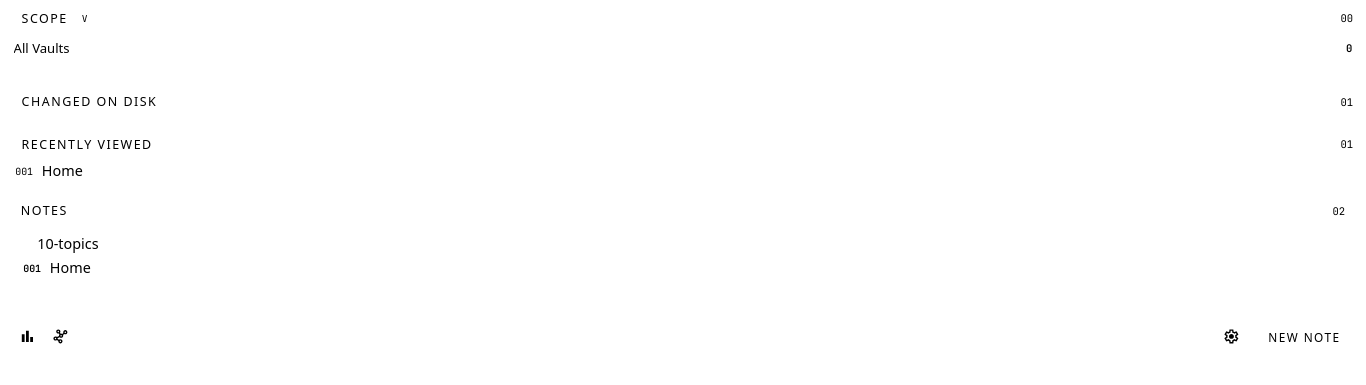
it: ExplorerPane › unfolds Changed on disk from its own head, folded by default (#530)
Expected: the link "Finance" is not shown
Click the button "Changed on disk 01" at {"x": 89, "y": 102}, box [8,93,1358,110]
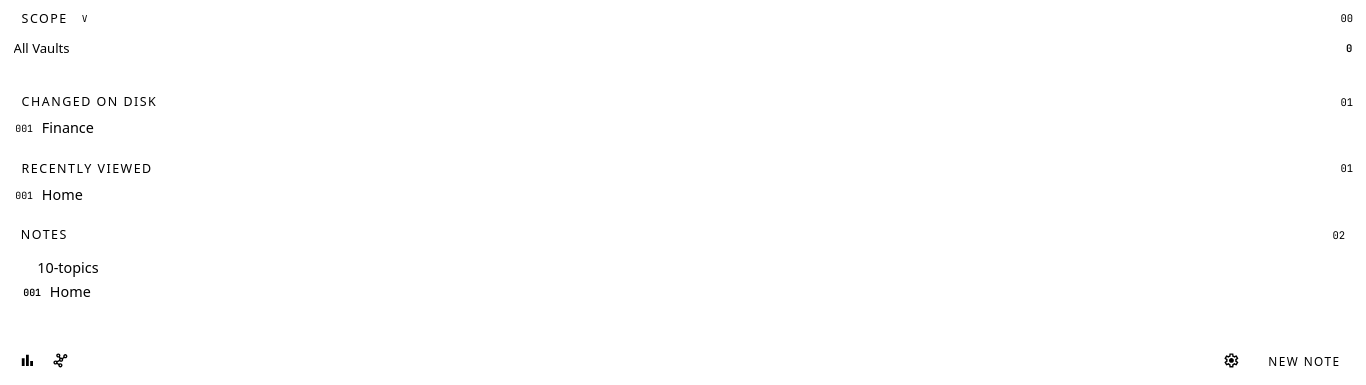
Expected: the link "001 Finance" is shown, [15,118,94,137]
